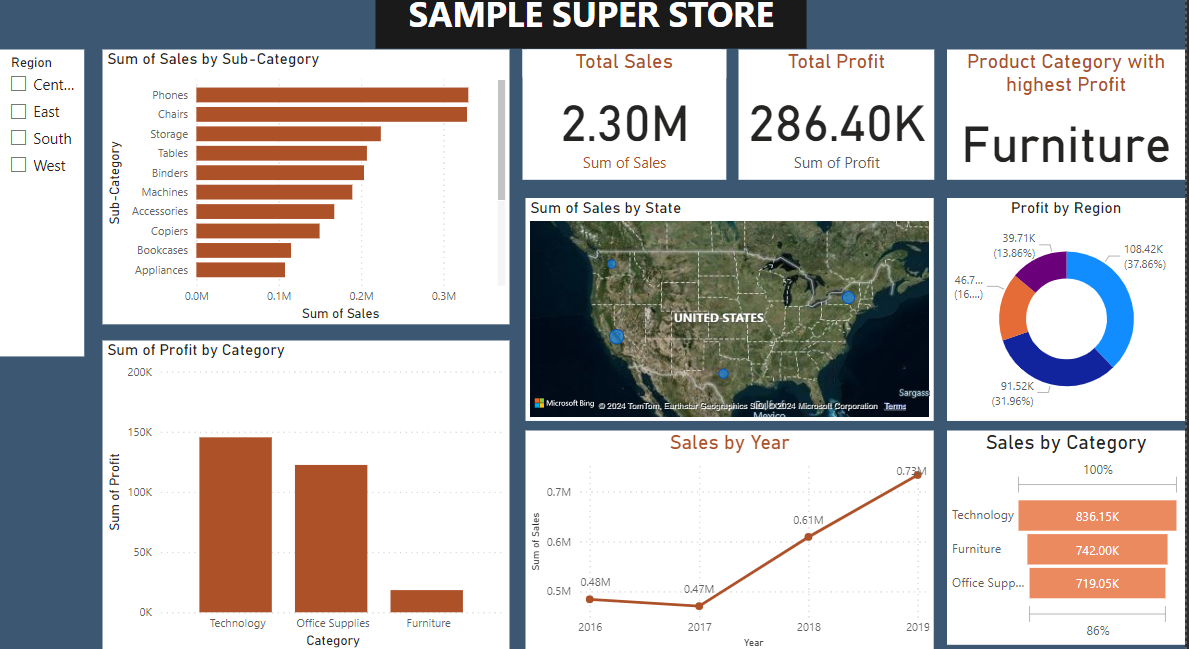

The dashboard page shown, as its layout file describes it:
{"tool":"powerbi","page":{"name":"dasboard","canvas":[1280,720],"ordinal":10},"visuals":[{"type":"textbox","box":[406.6,0,465.6,68.9],"z":0},{"type":"barChart","fields":{"Y":["Sum(Orders.Sales)"],"Category":["Orders.Sub-Category"]},"box":[111.5,68.9,439.3,296.7],"z":1000},{"type":"card","title":"Total Profit","fields":{"Values":["Sum(Orders.Profit)"]},"box":[798.4,68.9,211.5,141],"z":2000},{"type":"card","title":"Product Category with highest Profit","fields":{"Values":["Min(Orders.Category)"]},"box":[1023,68.9,257.4,141],"z":4000},{"type":"donutChart","title":"Profit by Region","fields":{"Category":["Orders.Region"],"Y":["Sum(Orders.Profit)"]},"box":[1023,229.5,257.4,241],"z":5000},{"type":"funnel","title":"Sales by Category","fields":{"Category":["Orders.Category"],"Y":["Sum(Orders.Sales)"]},"box":[1023,480.3,257.4,231.1],"z":6000},{"type":"map","fields":{"Category":["Orders.State"],"Size":["Sum(Orders.Sales)"]},"box":[568.9,229.5,441,241],"z":7000},{"type":"lineChart","title":"Sales by Year","fields":{"Category":["Orders.Order Date.Variation.Date Hierarchy.Year","Orders.Order Date.Variation.Date Hierarchy.Quarter","Orders.Order Date.Variation.Date Hierarchy.Month","Orders.Order Date.Variation.Date Hierarchy.Day"],"Y":["Sum(Orders.Sales)"]},"box":[568.9,480.3,441,239.3],"z":8000},{"type":"clusteredColumnChart","fields":{"Y":["Sum(Orders.Profit)"],"Category":["Orders.Category"]},"box":[111.5,383.6,439.3,336.1],"z":9000},{"type":"card","title":"Total Sales","fields":{"Values":["Sum(Orders.Sales)"]},"box":[565.6,68.9,219.7,141],"z":10000},{"type":"slicer","fields":{"Values":["Orders.Region"]},"box":[0,69.6,92.3,296.3],"z":11000}]}

Visuals, with their boxes in screenshot pixels (x1, y1, x2, y2):
textbox: bbox(372, 0, 802, 45)
barChart - Sum(Orders.Sales) x Orders.Sub-Category: bbox(100, 45, 505, 319)
"Total Profit" card: bbox(734, 45, 929, 175)
"Product Category with highest Profit" card: bbox(941, 45, 1179, 175)
"Profit by Region" donutChart: bbox(941, 193, 1179, 416)
"Sales by Category" funnel: bbox(941, 425, 1179, 638)
map - Orders.State x Sum(Orders.Sales): bbox(522, 193, 929, 416)
"Sales by Year" lineChart: bbox(522, 425, 929, 646)
clusteredColumnChart - Sum(Orders.Profit) x Orders.Category: bbox(100, 336, 505, 646)
"Total Sales" card: bbox(519, 45, 722, 175)
slicer - Orders.Region: bbox(0, 46, 82, 319)
